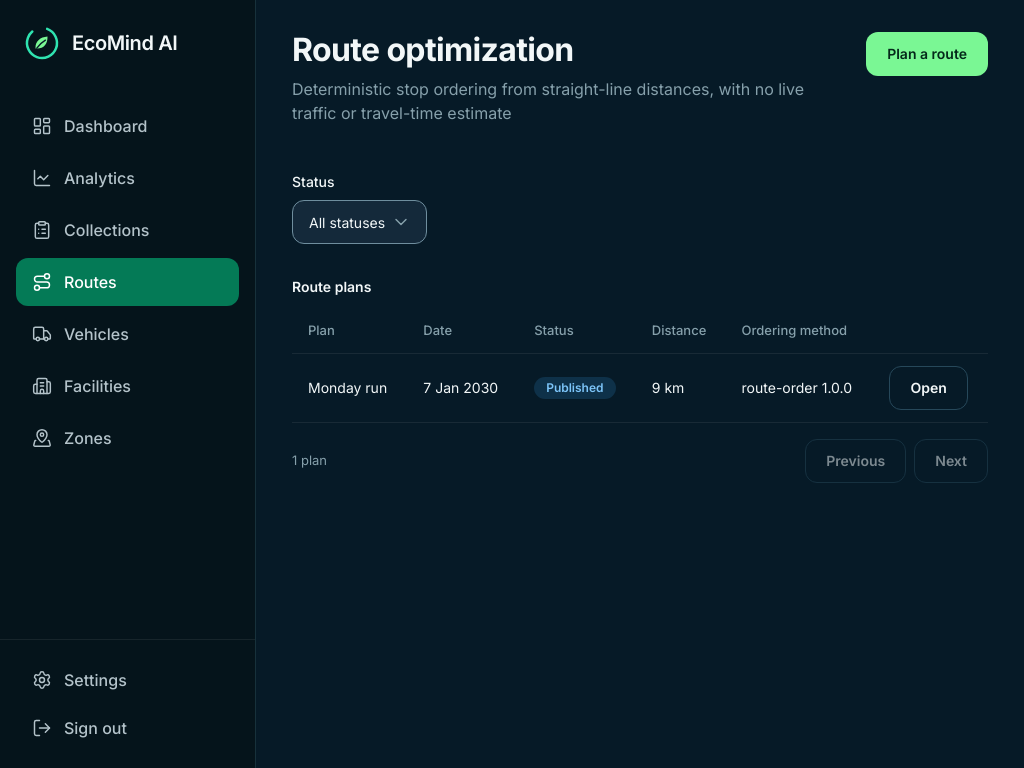
Scenario: route plan map › labels the straight-line fallback and the reason when no road route exists
The image size is (1024, 768).
Click the button with aria-label "Monday run": x=929, y=388 [889,366,968,410]
(page scrolled)
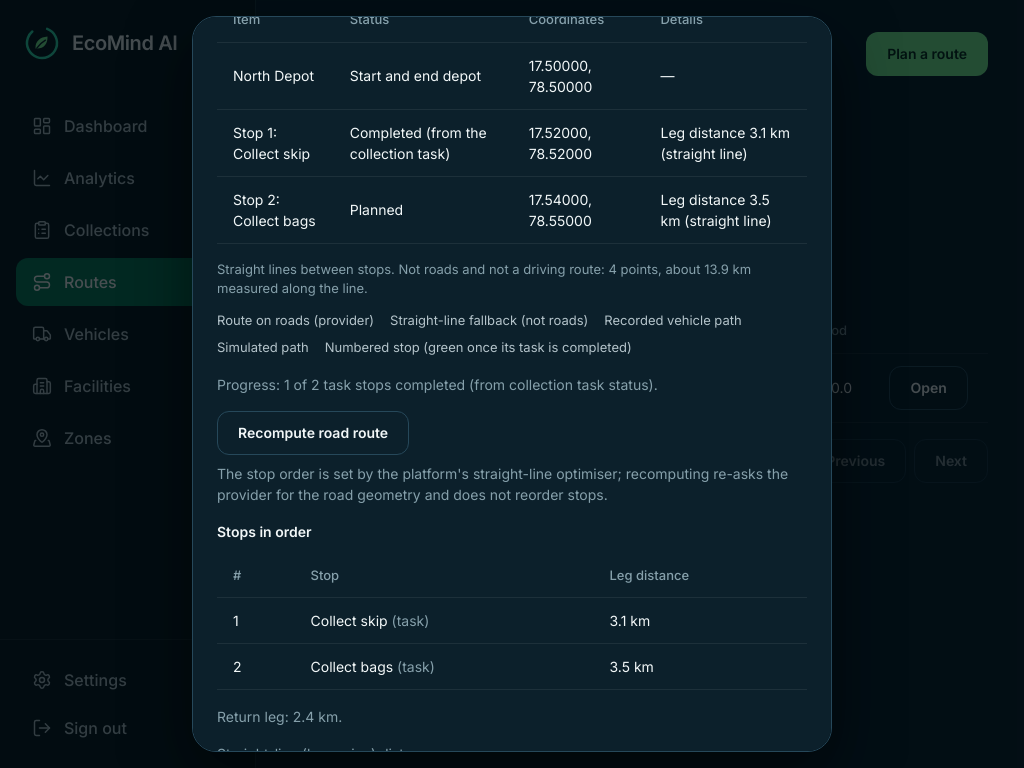
Expected: the column heading "Stop 1: Collect skip" is shown, [217,109,334,176]
Expected: the column heading "Stop 2: Collect bags" is shown, [217,176,334,243]
Expected: the text "Completed (from the collection task)" is shown, [334,109,513,176]
